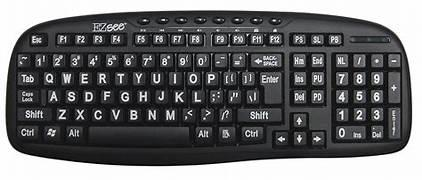keyboard: (5, 9, 412, 166)
